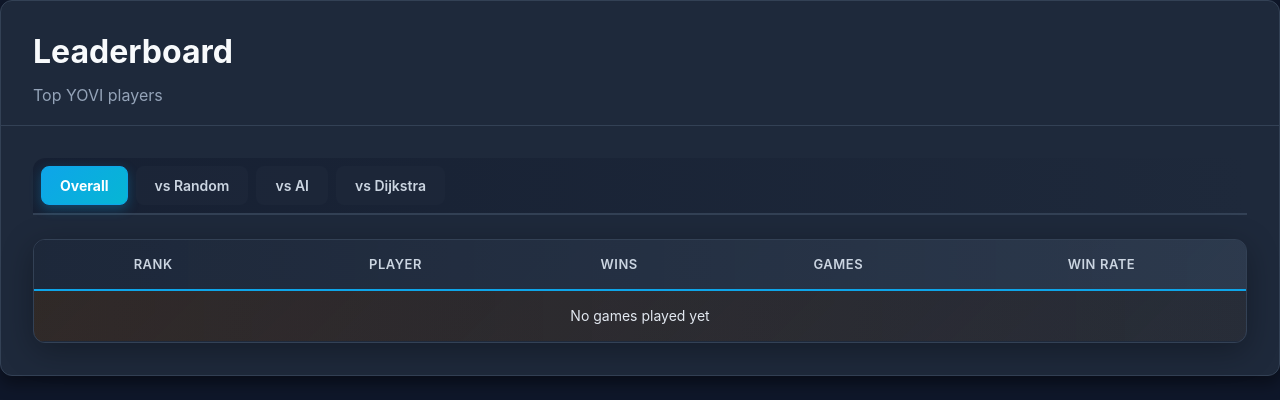
LeaderboardPage › Empty States › shows empty message for bot leaderboard with no wins
Click the button "vs Random". click: (192, 186)
box: [136, 166, 248, 205]
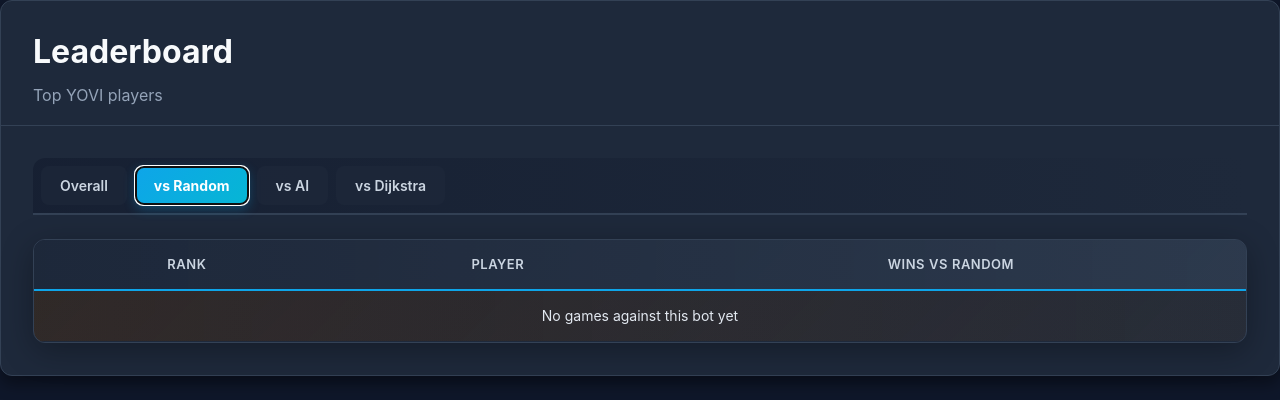
Expected: the text "No games against this bot yet" is shown, [34, 290, 1246, 342]
